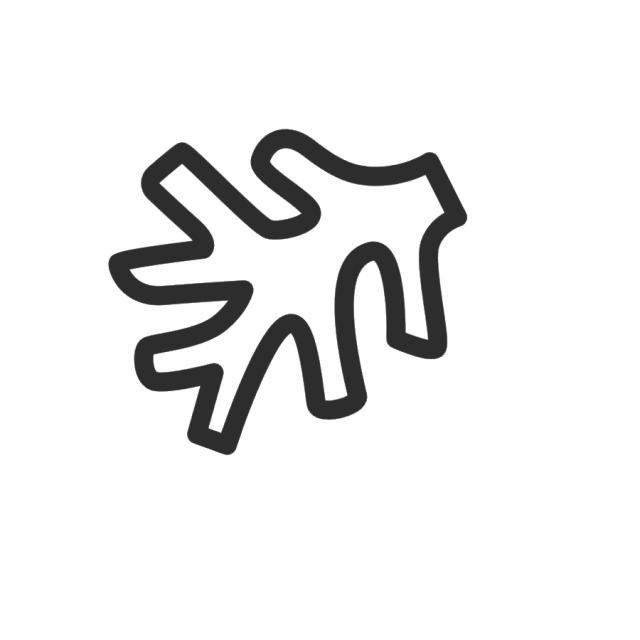coral: (100, 124, 474, 463)
